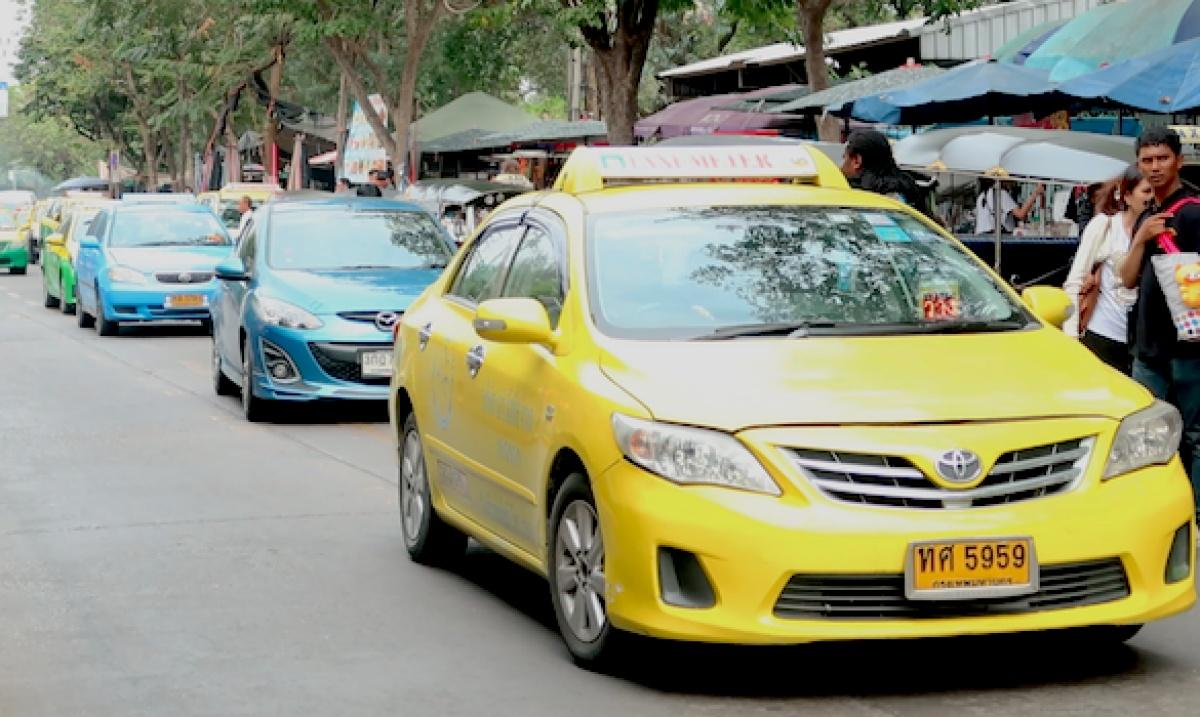taxi: (435, 165, 1177, 657)
